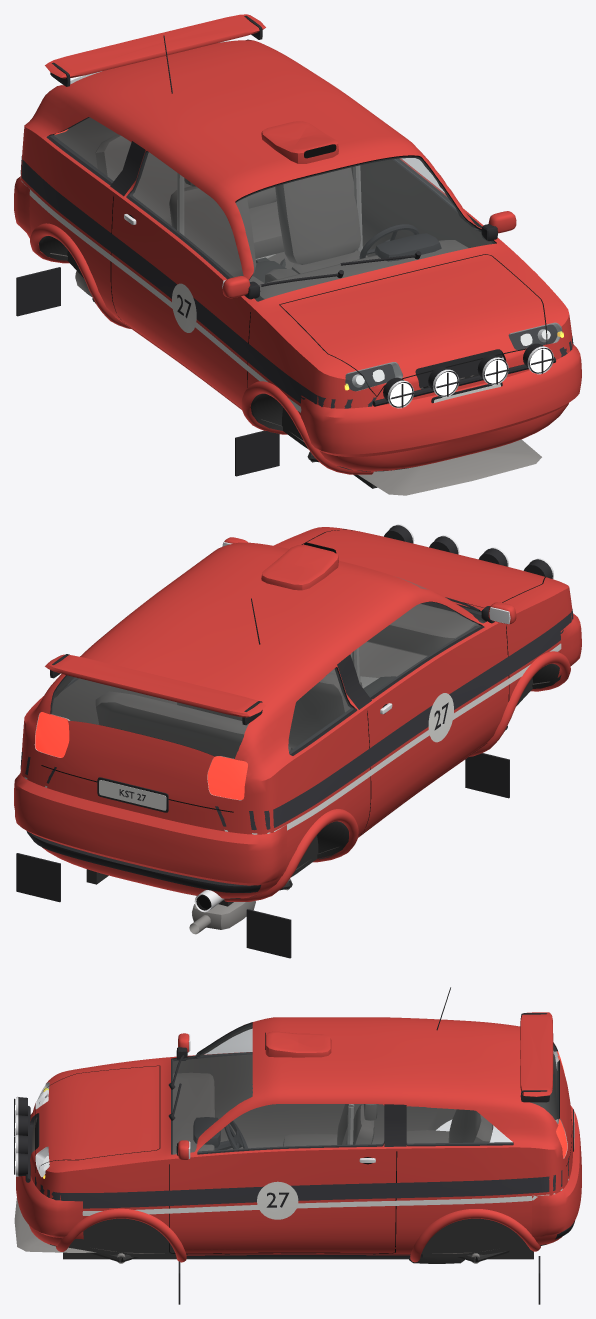
File: rally.glb
3 views of the same model, one above another, from view 1: azimuth 30°, elevation 25°; view 2: azimuth 150°, elevation 25°; view 3: azimuth 270°, elevation 25° (orthographic). The views are drawn at different scales.
Parts seen in each view (by area): view 1: Body, Glass_Front, Glass_F_R, Glass_C_R, Glass_F_L; view 2: Body, Glass_Rear, Glass_F_R, Glass_C_R; view 3: Body, Glass_F_L, Glass_Front, Glass_C_L, Glass_F_R, Glass_Rear.
Part boxes in pixels (<box>): Body: <box>14,14,581,495</box>; Glass_Front: <box>236,156,494,301</box>; Glass_F_R: <box>130,152,242,277</box>; Glass_C_R: <box>51,118,130,182</box>; Glass_F_L: <box>395,158,455,208</box>; Body: <box>14,524,581,958</box>; Glass_Rear: <box>51,676,248,758</box>; Glass_F_R: <box>351,602,480,697</box>; Glass_C_R: <box>288,668,352,753</box>; Body: <box>14,987,581,1304</box>; Glass_F_L: <box>198,1104,383,1152</box>; Glass_Front: <box>172,1024,252,1154</box>; Glass_C_L: <box>407,1106,512,1144</box>; Glass_F_R: <box>203,1029,251,1055</box>; Glass_Rear: <box>532,1045,558,1123</box>.
Bounding box in the file's own units: 2 × 1.95 × 4.1.
